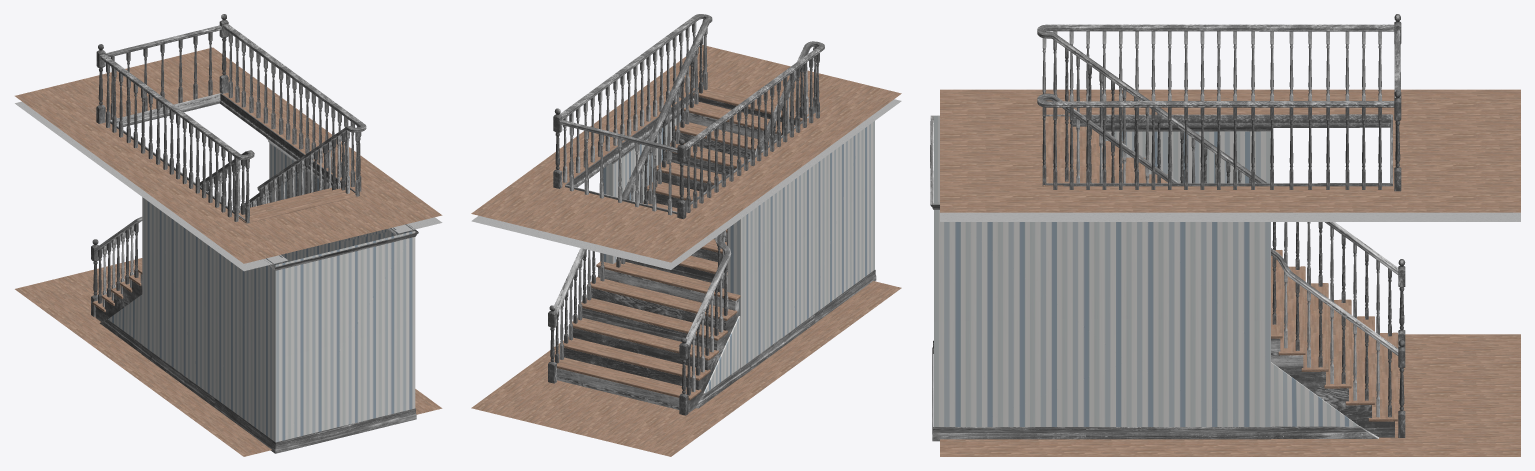
The model's file is SM_Stairs_D_1-2-Attic.fbx.
The picture shows the model from 3 angles, left to right: view 1: azimuth 30°, elevation 25°; view 2: azimuth 150°, elevation 25°; view 3: azimuth 270°, elevation 25°; orthographic projection. The views are drawn at different scales.
Parts seen in each view (by area): view 1: SM_Stairs_D_1-2-Attic_LOD0; view 2: SM_Stairs_D_1-2-Attic_LOD0; view 3: SM_Stairs_D_1-2-Attic_LOD0.
Part boxes in pixels (bbox=[...]): SM_Stairs_D_1-2-Attic_LOD0: bbox=[15, 14, 442, 456]; SM_Stairs_D_1-2-Attic_LOD0: bbox=[471, 14, 901, 456]; SM_Stairs_D_1-2-Attic_LOD0: bbox=[930, 14, 1520, 456].
Size of the model in its own units: 280 by 569 by 381.
Materials: 5 (5 with a texture image).
